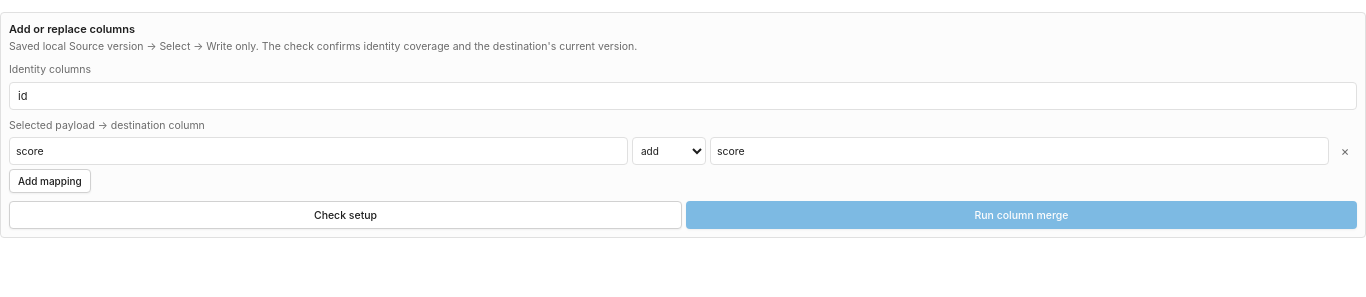
MergeColumnsControl › fences an old preflight response after an edit and explains stale heads without auto-rebase
The image size is (1366, 297).
Click the button "Check setup" at coordinates (346, 215), box [9,201,682,229]
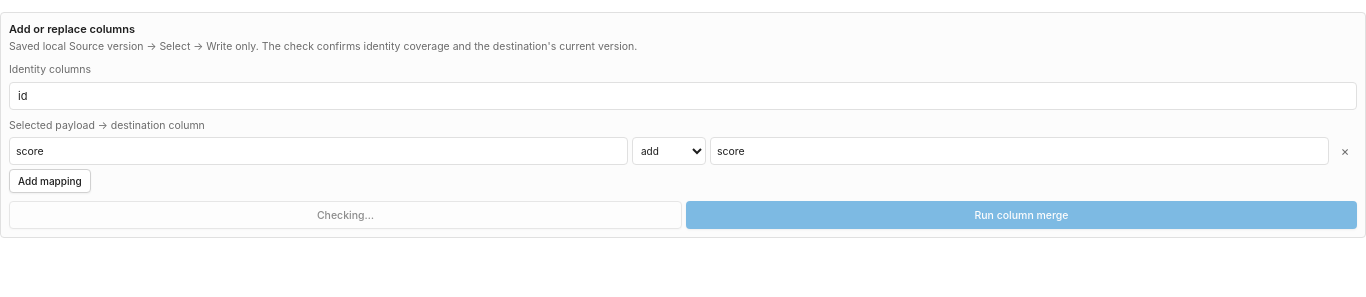
Replace the text in the field named "Merge identity columns" with "id, frame" at coordinates (683, 96), box [9,82,1357,110]
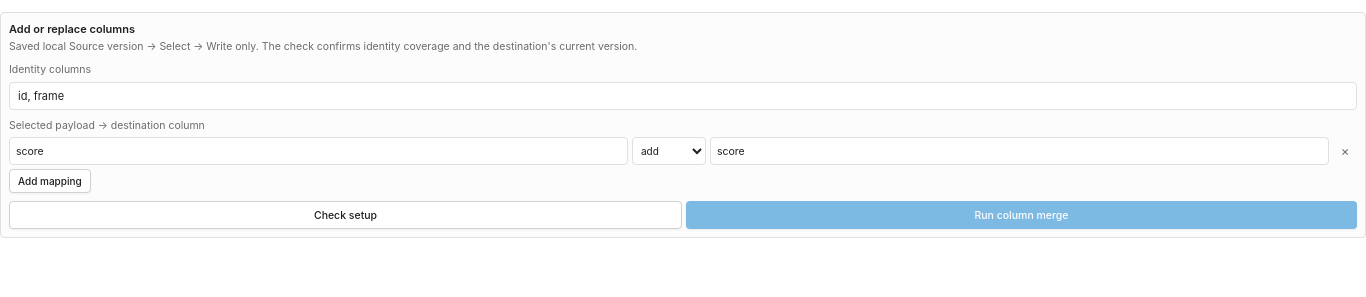
Click the button "Check setup" at coordinates (346, 215), box [9,201,682,229]
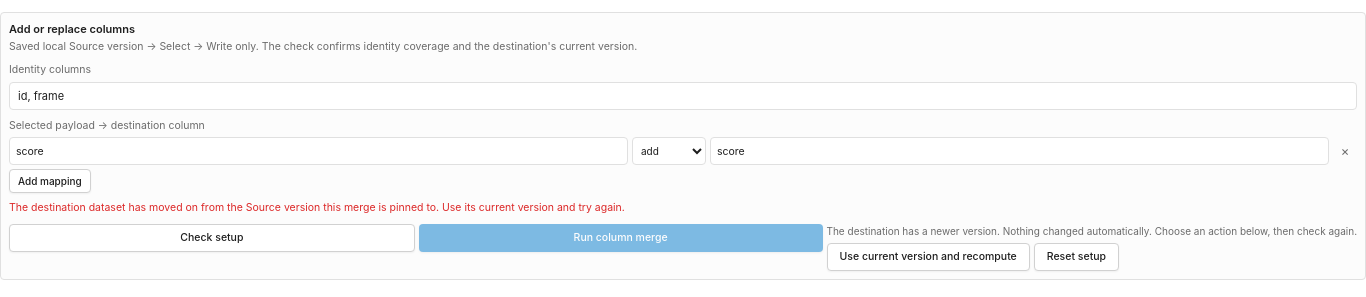
Now the text "Nothing changed automatically" is shown, box [826,225,1357,237]
Now the button "Reset setup" is shown, box [1034,243,1119,271]
Now the button "Use current version and recompute" is shown, box [826,243,1030,271]
